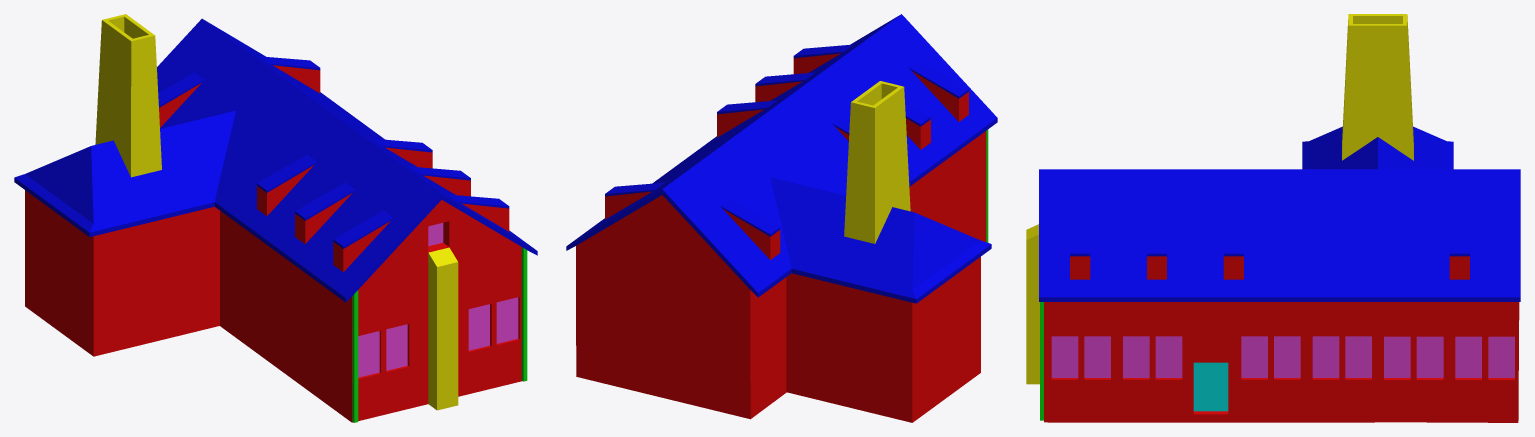
File: Crematorium.fbx
3 views of the same model, side by side, from view 1: azimuth 30°, elevation 25°; view 2: azimuth 150°, elevation 25°; view 3: azimuth 270°, elevation 25° (orthographic).
Parts seen in each view (by area): view 1: mesh_Crematorium; view 2: mesh_Crematorium; view 3: mesh_Crematorium.
Boxes of the visible parts, left/top/right/bottom form: mesh_Crematorium: left=14, top=14, right=537, bottom=422; mesh_Crematorium: left=566, top=14, right=997, bottom=422; mesh_Crematorium: left=1026, top=14, right=1520, bottom=422.
Size of the model in its own units: 1101 by 956 by 1480.
